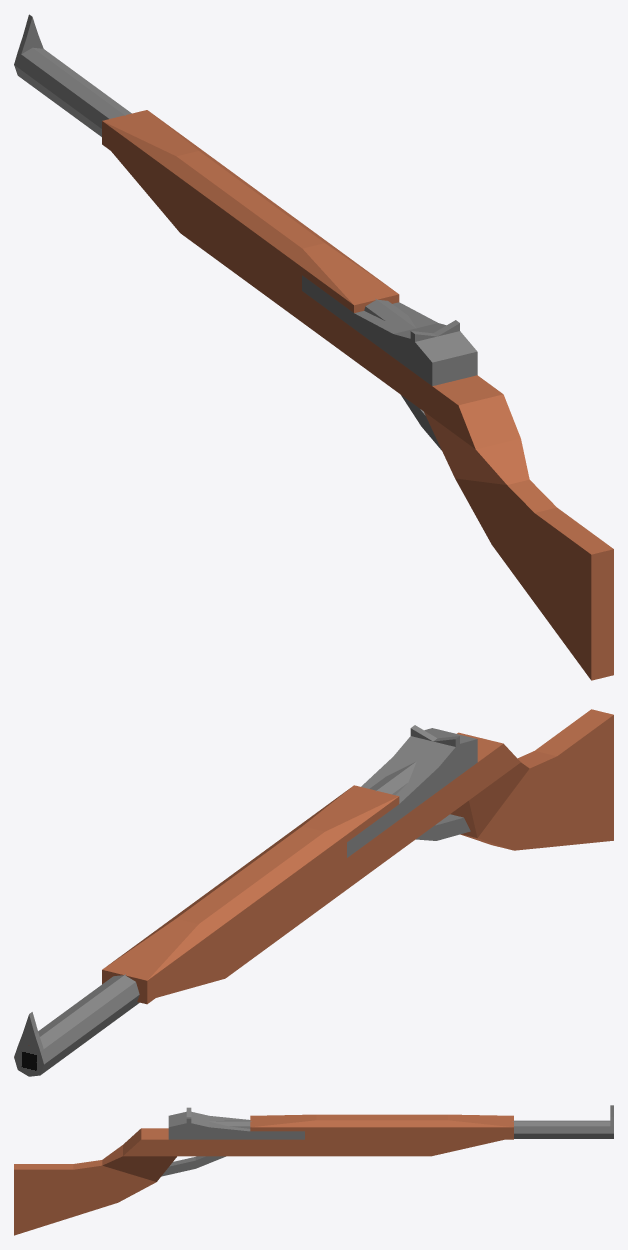
Rendered from rifle.gltf.
The picture shows the model from 3 angles, top to bottom: view 1: azimuth 30°, elevation 25°; view 2: azimuth 150°, elevation 25°; view 3: azimuth 270°, elevation 25°; orthographic projection. The views are drawn at different scales.
Visible parts, largest first — view 1: cuboid (×3), barrel; view 2: cuboid (×4), barrel; view 3: cuboid (×4), barrel.
Boxes of the visible parts, bbox=[...] form: cuboid (×3): bbox=[102, 110, 613, 680]; barrel: bbox=[14, 14, 416, 328]; cuboid (×4): bbox=[102, 709, 613, 1004]; barrel: bbox=[14, 762, 416, 1076]; cuboid (×4): bbox=[14, 1107, 513, 1235]; barrel: bbox=[209, 1105, 613, 1138].
Size of the model in its own units: 0.0375 by 0.1934 by 0.825.
Materials: 1 (1 with a texture image).
